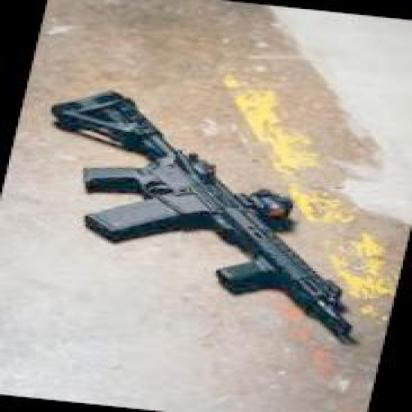Gun: (61, 101, 350, 340)
